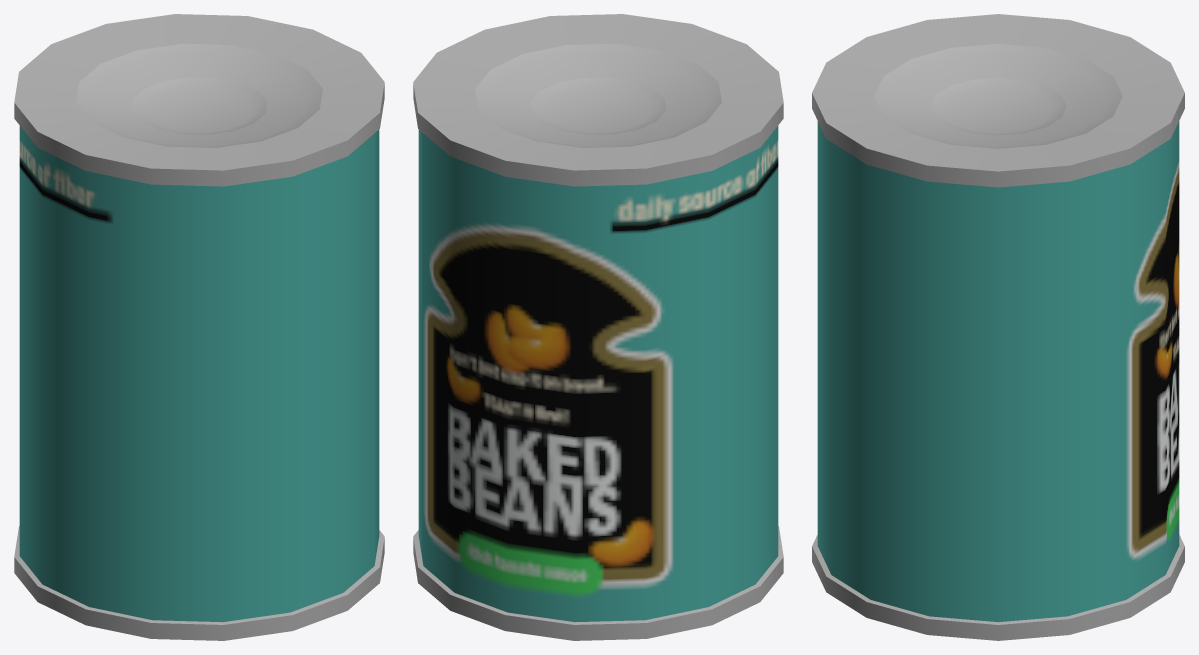
File: BakedBeans.fbx
3 views of the same model, side by side, from view 1: azimuth 30°, elevation 25°; view 2: azimuth 150°, elevation 25°; view 3: azimuth 270°, elevation 25° (orthographic).
Visible parts, largest first — view 1: Beans; view 2: Beans; view 3: Beans.
Boxes of the visible parts, left/top/right/bottom form: Beans: left=14, top=14, right=384, bottom=640; Beans: left=413, top=14, right=783, bottom=640; Beans: left=812, top=14, right=1184, bottom=640.
Size of the model in its own units: 1.8 by 2.51 by 1.8.
